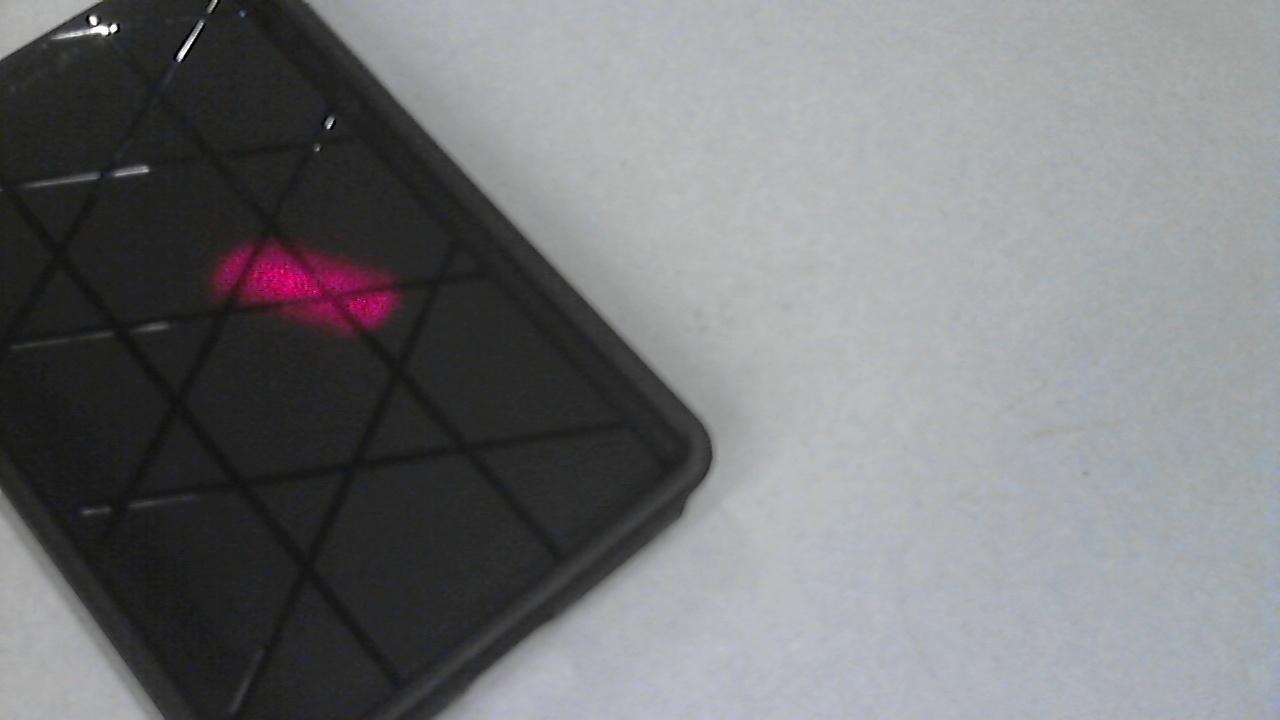Object protective phone case - Material plastic - Pdfname asdfeafgta: (189, 225, 419, 342)
